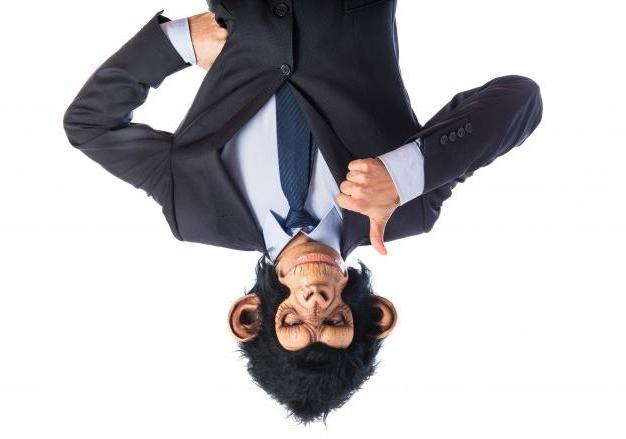thumbsdown: (336, 158, 388, 257)
